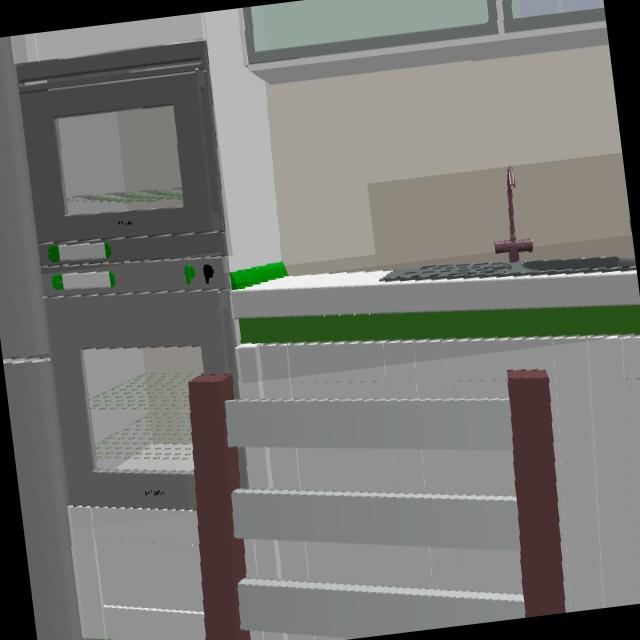cabinet: (24, 0, 608, 271)
chair: (187, 369, 566, 640)
countertop: (231, 269, 640, 344)
fridge: (0, 36, 84, 640)
microwave: (15, 41, 227, 271)
oven: (42, 257, 238, 521)
sink: (379, 166, 636, 282)
